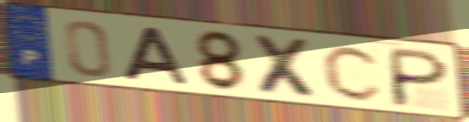0: (62, 19, 113, 79)
8: (193, 28, 249, 94)
A: (121, 24, 194, 87)
C: (320, 43, 386, 103)
P: (388, 45, 452, 110)
X: (248, 32, 324, 102)
